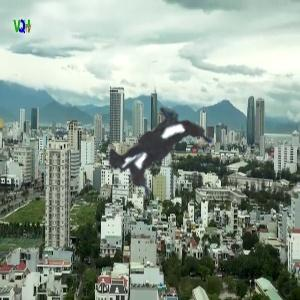drone: (9, 5, 299, 295)
